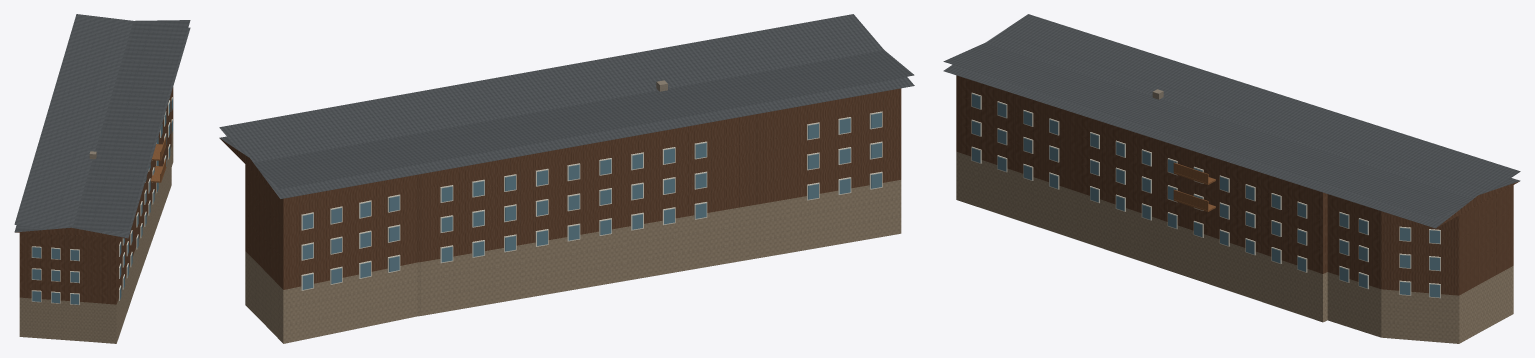
The model's file is core_0054.gltf.
3 renders of one model, left to right at view 1: azimuth 30°, elevation 25°; view 2: azimuth 150°, elevation 25°; view 3: azimuth 270°, elevation 25°, orthographic. The views are drawn at different scales.
Visible parts, largest first — view 1: core_0054; view 2: core_0054; view 3: core_0054.
Boxes of the visible parts, <box> form: core_0054: <box>14,14,190,343</box>; core_0054: <box>219,14,914,343</box>; core_0054: <box>943,14,1520,343</box>.
Size of the model in its own units: 46.4 by 15.15 by 55.25.
7 materials, 7 textured.
